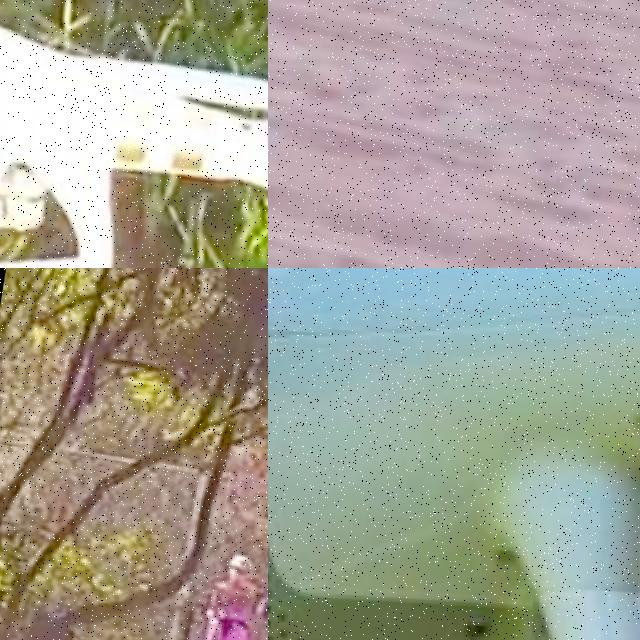drone: (268, 268, 640, 640), (0, 0, 268, 268)
